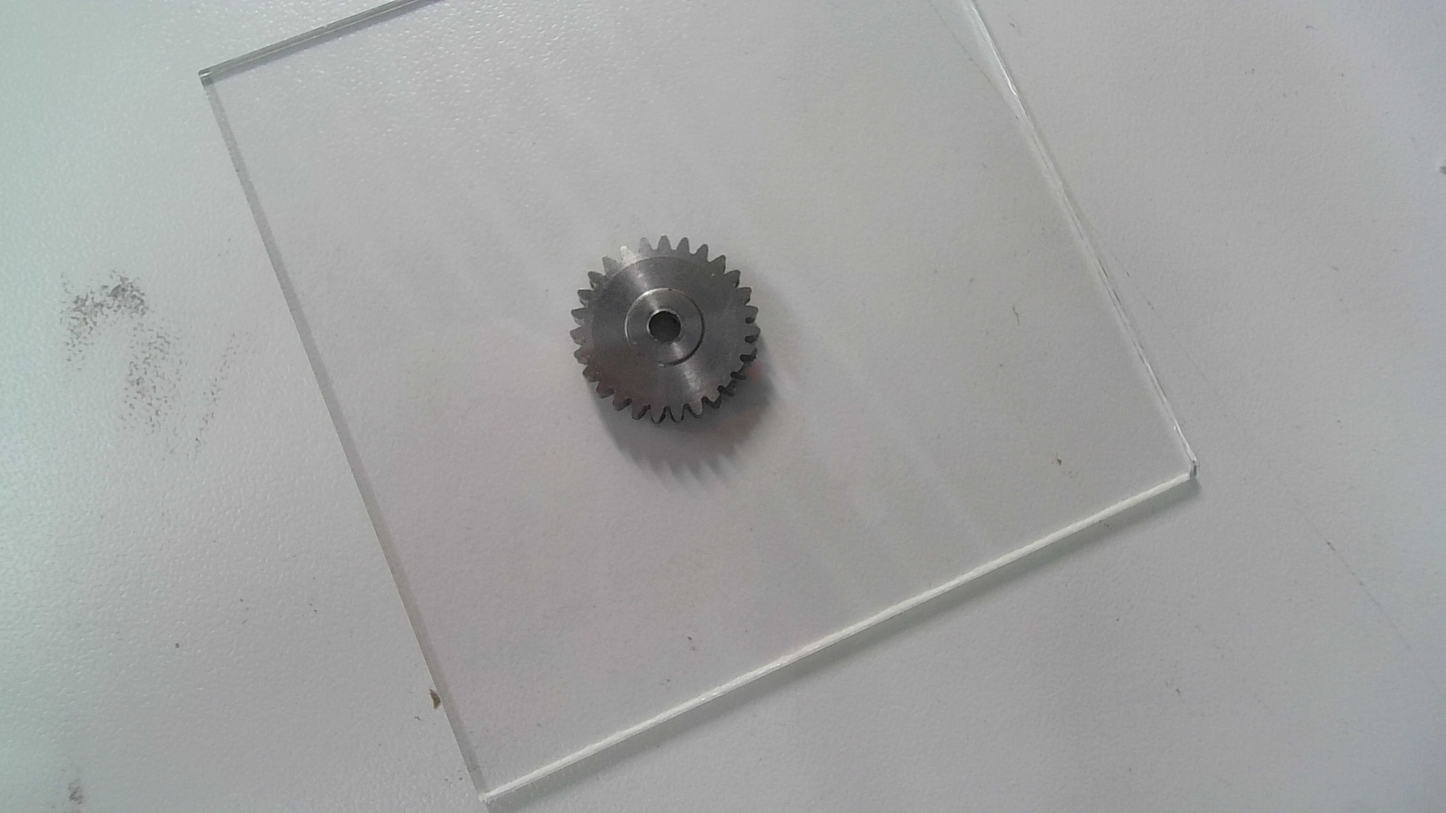gear: (569, 234, 765, 425)
